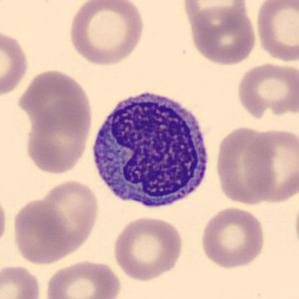Lymphocyte: (86, 82, 216, 215)
RBC: (30, 177, 100, 259), (66, 0, 148, 67), (212, 123, 278, 206), (22, 99, 93, 175), (15, 66, 94, 134), (110, 214, 184, 282), (187, 3, 258, 67), (198, 205, 266, 270), (242, 125, 297, 205), (10, 197, 70, 266), (234, 60, 298, 122), (42, 258, 123, 299), (253, 0, 299, 64), (0, 28, 31, 99), (180, 0, 250, 29), (0, 262, 43, 298), (0, 190, 9, 252)
